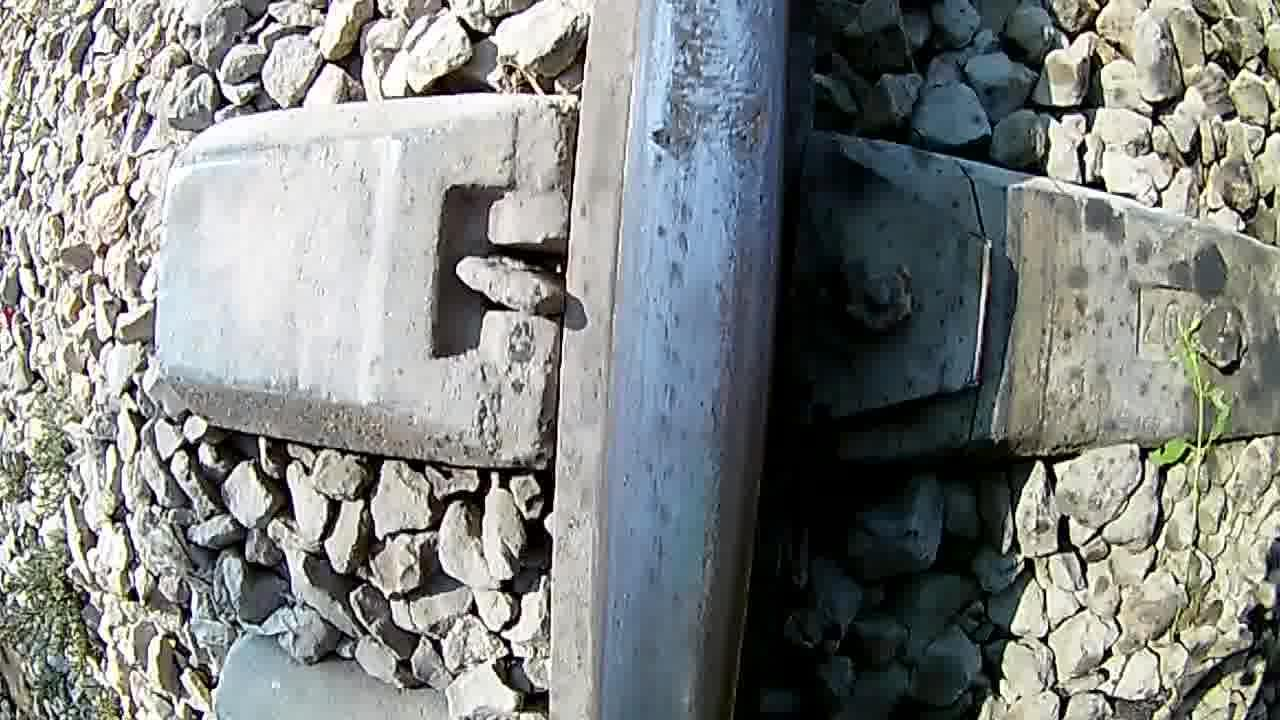crack: (603, 3, 786, 720)
